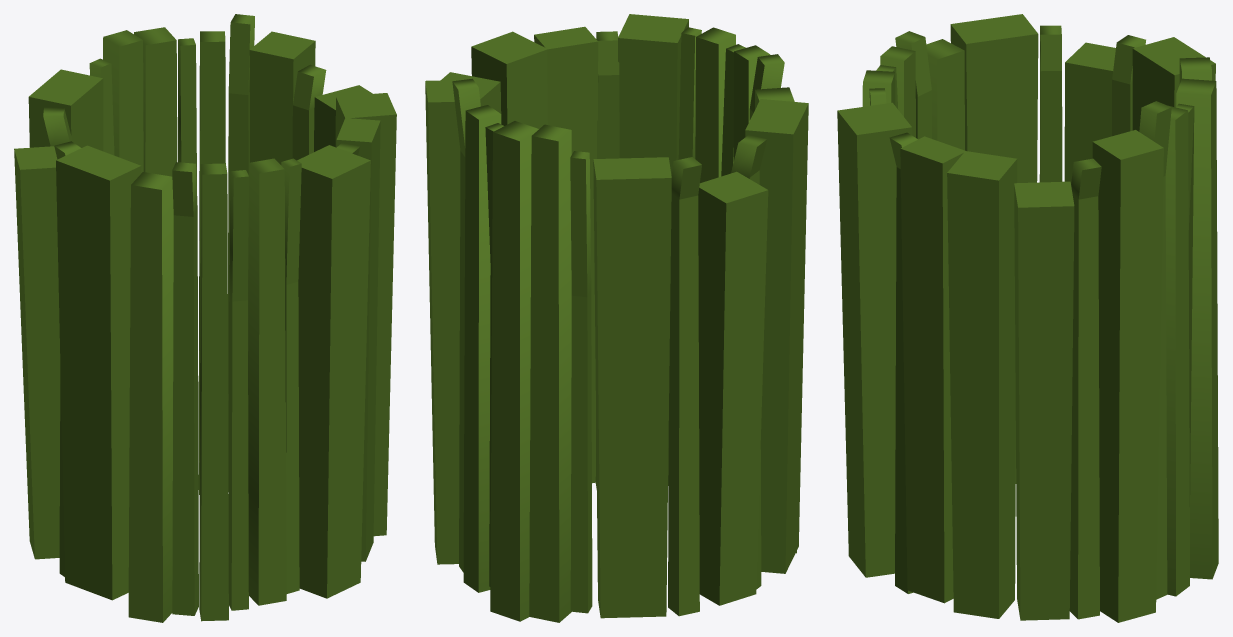
File: grass2_cut.fbx
The picture shows the model from 3 angles, left to right: view 1: azimuth 30°, elevation 25°; view 2: azimuth 150°, elevation 25°; view 3: azimuth 270°, elevation 25°; orthographic projection. The views are drawn at different scales.
Visible parts, largest first — view 1: Cube.024_Cube.002; view 2: Cube.024_Cube.002; view 3: Cube.024_Cube.002.
Boxes of the visible parts, left/top/right/bottom form: Cube.024_Cube.002: left=14, top=14, right=396, bottom=622; Cube.024_Cube.002: left=425, top=14, right=808, bottom=622; Cube.024_Cube.002: left=837, top=14, right=1218, bottom=622.
Size of the model in its own units: 15.53 by 20.85 by 14.48.
